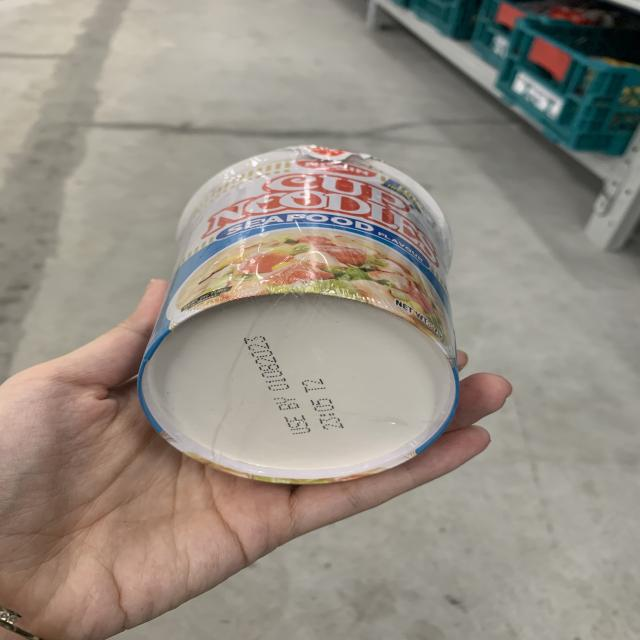object_name: (164, 172, 449, 456)
